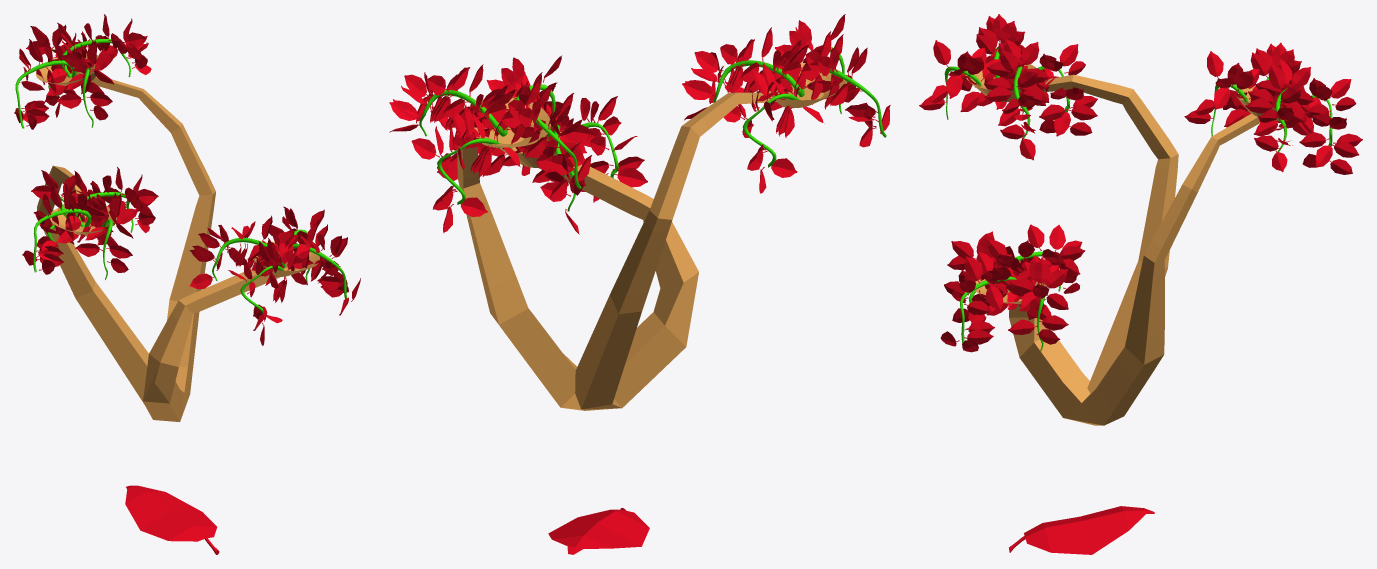
The model's file is Herbensja wielokwiatowa.fbx.
The picture shows the model from 3 angles, left to right: view 1: azimuth 30°, elevation 25°; view 2: azimuth 150°, elevation 25°; view 3: azimuth 270°, elevation 25°; orthographic projection. The views are drawn at different scales.
Parts seen in each view (by area): view 1: Cube, Plane, BézierCurve.005, BézierCurve.001, BézierCurve.003; view 2: Cube, Plane, BézierCurve.001, BézierCurve.005, Cylinder, Cylinder.002; view 3: Cube, Plane, BézierCurve.005, BézierCurve.003, BézierCurve.001.
Part boxes in pixels (left/top/right/bottom): Cube: left=37, top=71, right=287, bottom=421; Plane: left=125, top=485, right=219, bottom=554; BézierCurve.005: left=33, top=192, right=133, bottom=279; BézierCurve.001: left=15, top=39, right=130, bottom=128; BézierCurve.003: left=212, top=229, right=346, bottom=313; Cube: left=457, top=92, right=779, bottom=410; Plane: left=548, top=508, right=649, bottom=554; BézierCurve.001: left=419, top=84, right=581, bottom=204; BézierCurve.005: left=713, top=47, right=886, bottom=167; Cylinder: left=469, top=96, right=550, bottom=147; Cylinder.002: left=769, top=63, right=847, bottom=108; Cube: left=1007, top=74, right=1259, bottom=425; Plane: left=1009, top=506, right=1154, bottom=554; BézierCurve.005: left=944, top=47, right=1069, bottom=140; BézierCurve.003: left=960, top=251, right=1060, bottom=351; BézierCurve.001: left=1211, top=77, right=1332, bottom=152.
Size of the model in its own units: 439 by 582 by 482.
